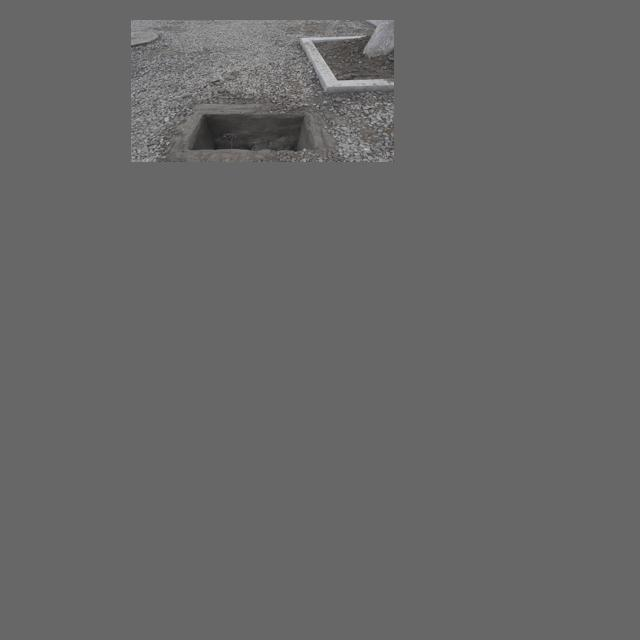lose: (184, 107, 319, 153)
